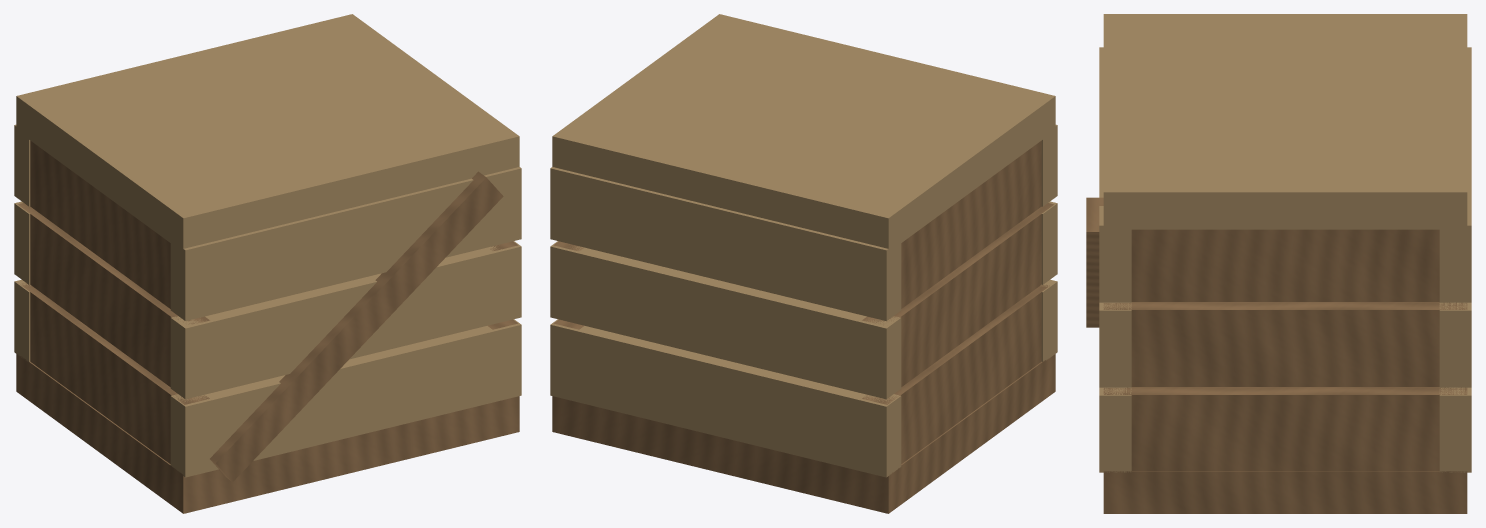
Rendered from crate.glb.
The picture shows the model from 3 angles, left to right: view 1: azimuth 30°, elevation 25°; view 2: azimuth 150°, elevation 25°; view 3: azimuth 270°, elevation 25°; orthographic projection. The views are drawn at different scales.
Parts seen in each view (by area): view 1: crate; view 2: crate; view 3: crate.
Part boxes in pixels (x1,y1,x2,y2): crate: [14, 14, 521, 513]; crate: [550, 14, 1057, 513]; crate: [1086, 14, 1471, 513].
Bounding box in the file's own units: 0.72 × 0.605 × 0.6575.
Materials: 2 (1 with a texture image).
